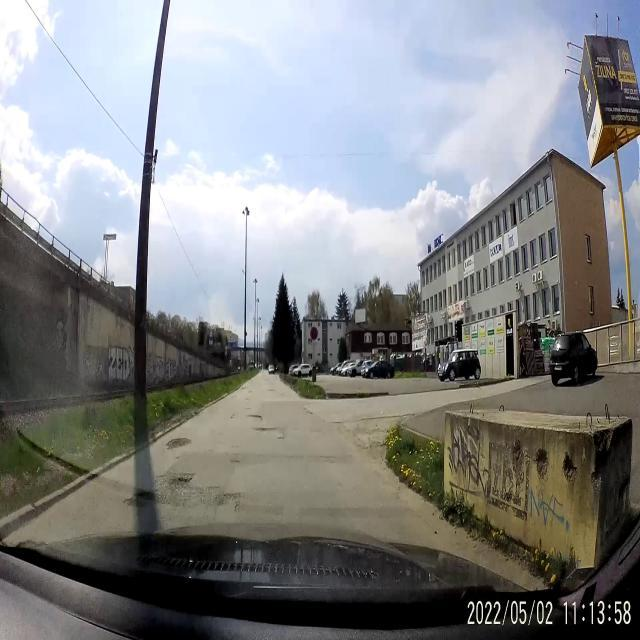Pothole: (156, 466, 203, 494), (212, 491, 248, 518), (162, 431, 196, 453), (254, 423, 284, 439), (245, 404, 265, 422), (230, 452, 243, 472)
